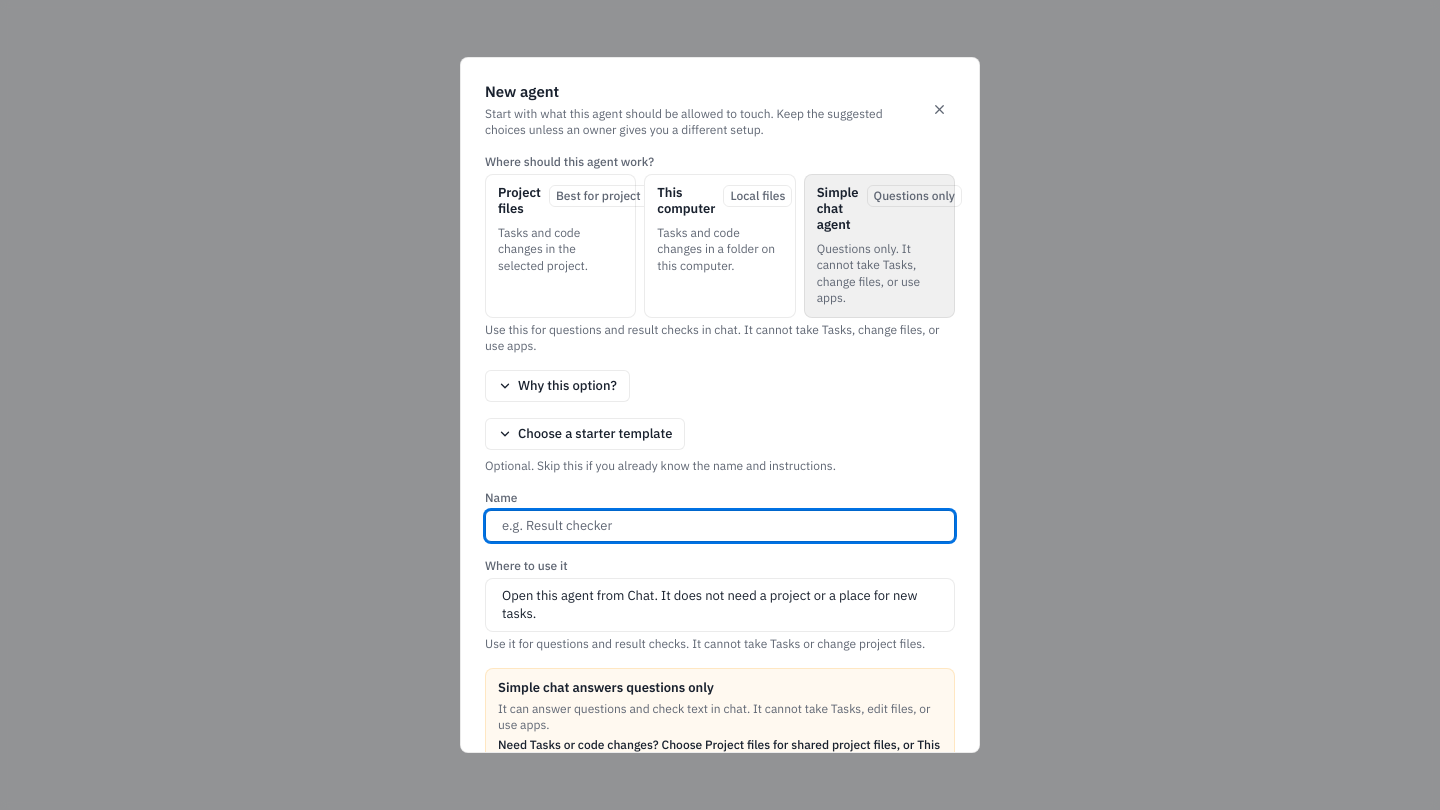
Test: CreateAgentModal simple chat guidance › shows instruction textarea when simple chat agent selected
The width and height of the screenshot is (1440, 810).
Step 1. Click the radio button labelled "Simple chat agent" → click(879, 246), box [804,174,955,318]
(page scrolled)
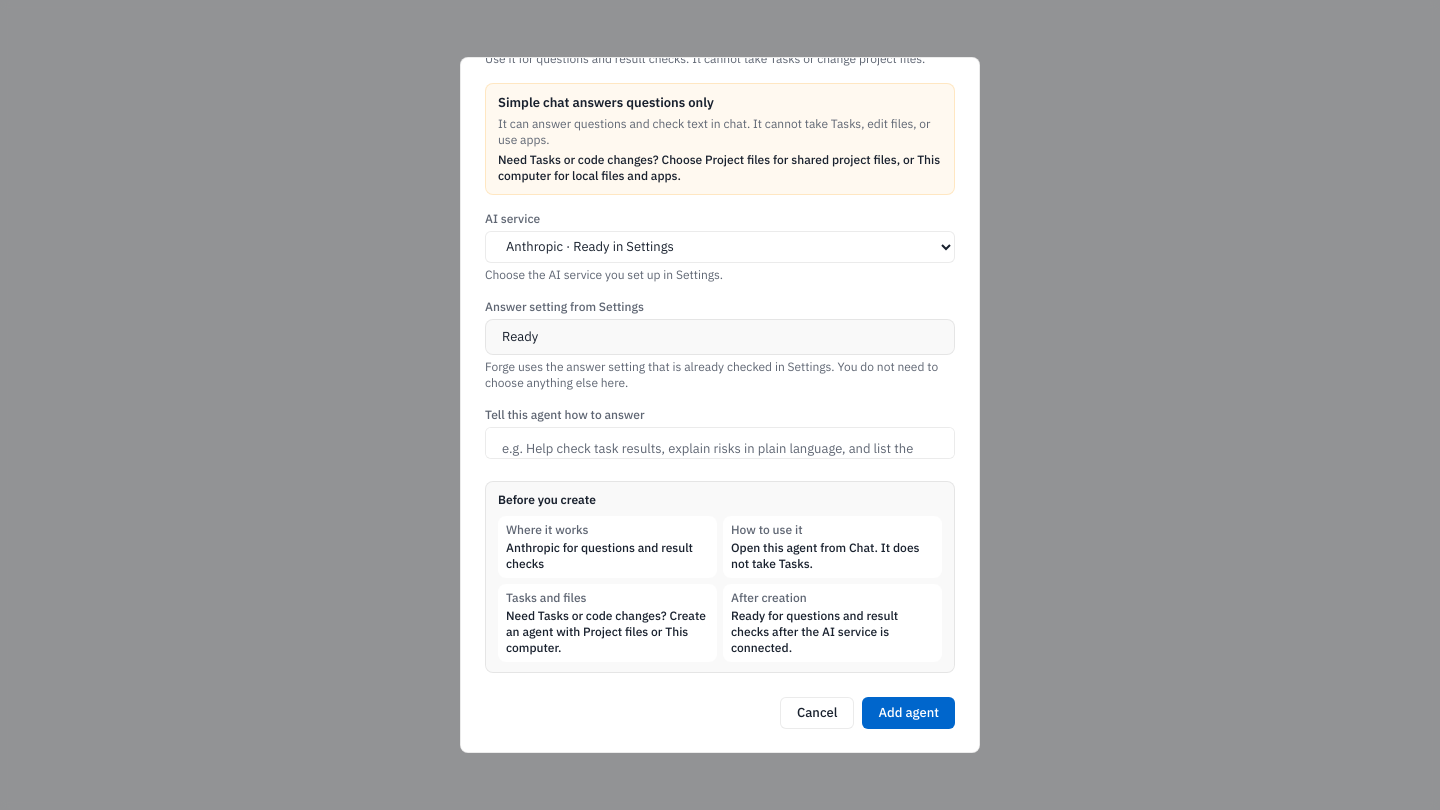
Result: the text box labelled "Tell this agent how to answer" is shown at [485,427,955,459]
